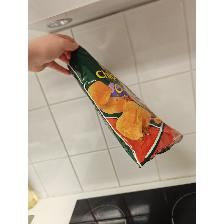Chips: (60, 42, 186, 170)
